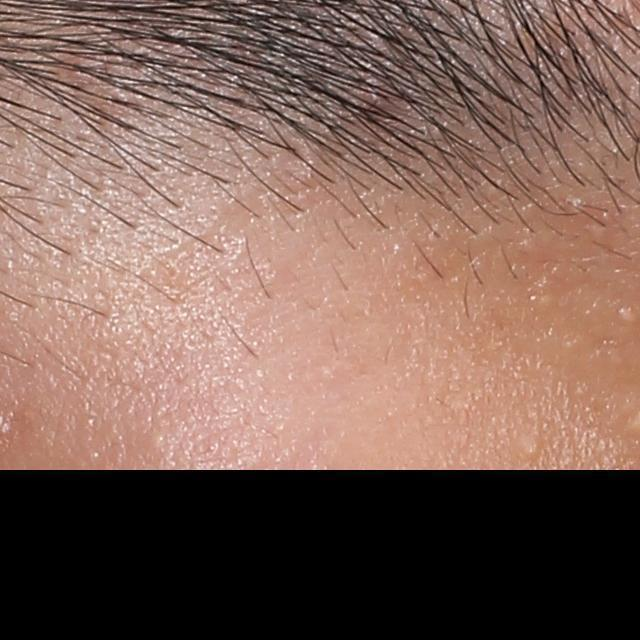other: (514, 435, 549, 456)
